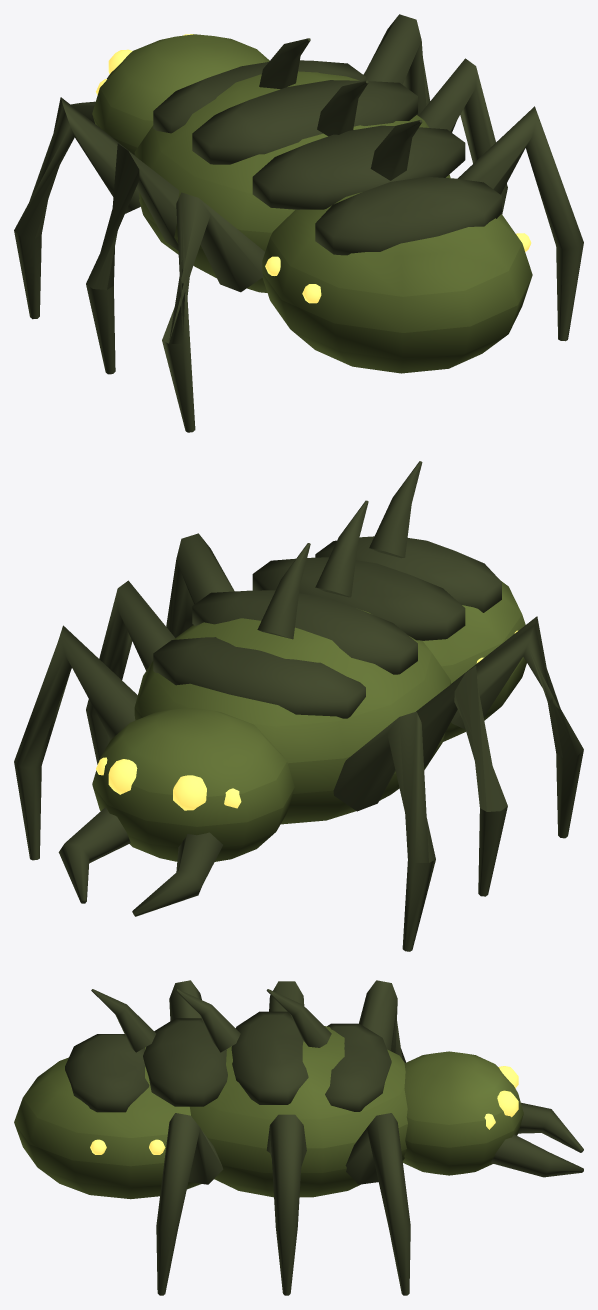
The model's file is critter.glb.
3 views of the same model, one above another, from view 1: azimuth 30°, elevation 25°; view 2: azimuth 150°, elevation 25°; view 3: azimuth 270°, elevation 25° (orthographic). The views are drawn at different scales.
Parts seen in each view (by area): view 1: critter_body, critter_glow; view 2: critter_body, critter_glow; view 3: critter_body, critter_glow.
Boxes of the visible parts, <box> form: critter_body: <box>14,14,583,432</box>; critter_glow: <box>96,34,531,303</box>; critter_body: <box>14,461,583,951</box>; critter_glow: <box>96,630,517,810</box>; critter_body: <box>14,980,583,1295</box>; critter_glow: <box>90,1066,518,1154</box>.
Bounding box in the file's own units: 5.79 × 3.97 × 8.78.
